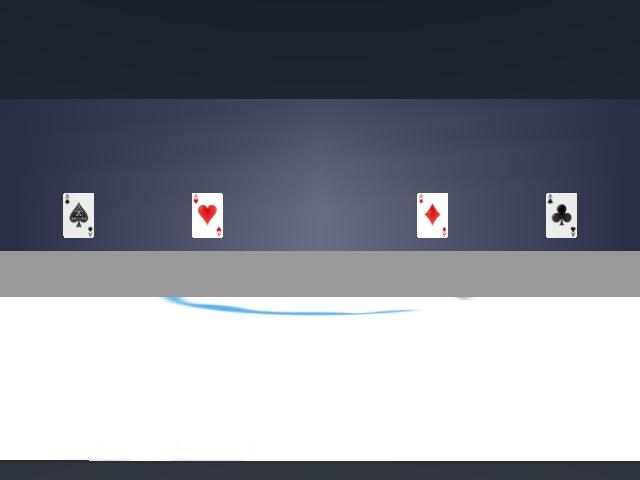club: (62, 193, 94, 238)
diamond: (417, 193, 448, 237)
heart: (192, 193, 223, 237)
spade: (546, 193, 577, 237)
